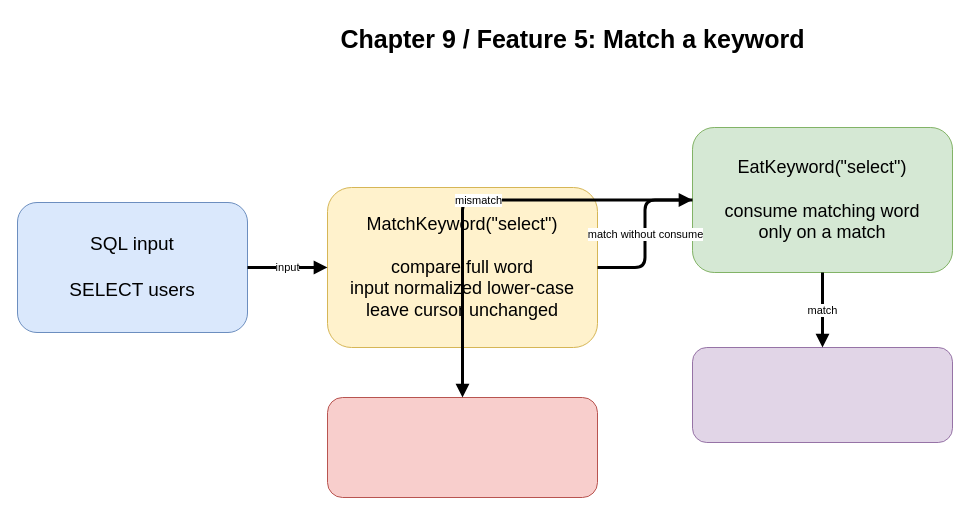
Some shapes in this 980 by 515 pixel diagram are drawn without their labels. The centre of each missing label's shape, as x and y in pixels:
keyword consumed next token = users: point (822, 394)
unexpected word or token error includes byte offset cursor remains unchanged: point (462, 447)
